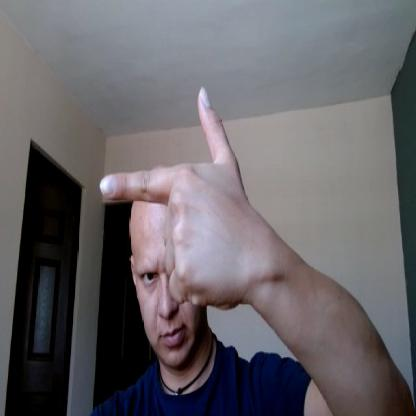G: (99, 86, 245, 308)
